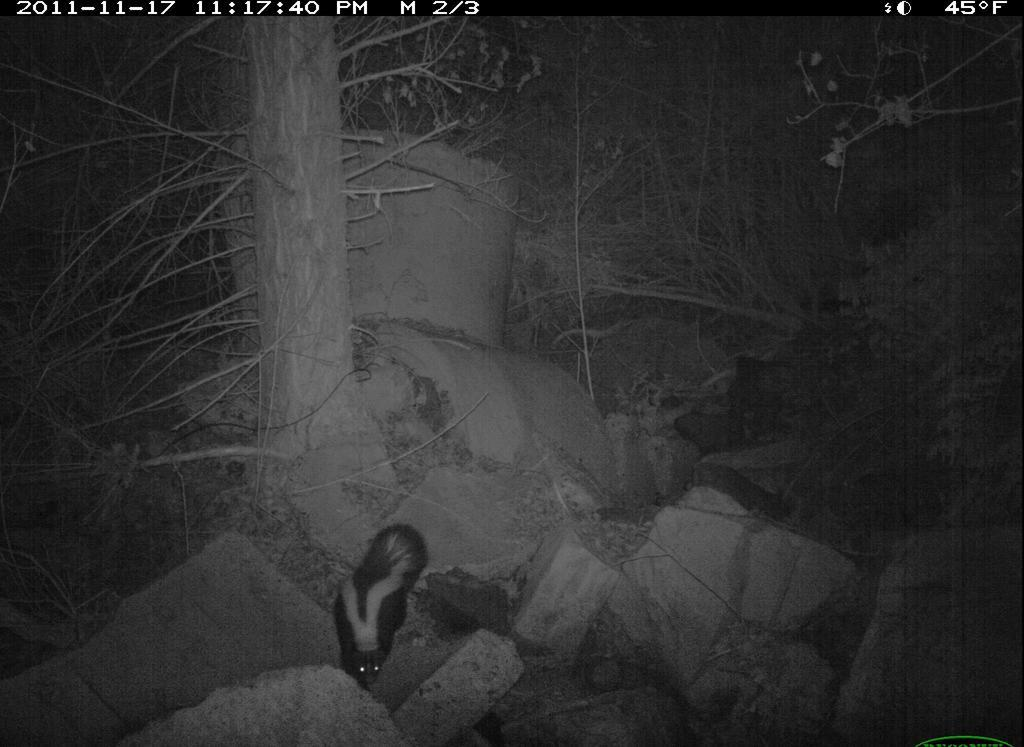skunk: (326, 513, 433, 692)
